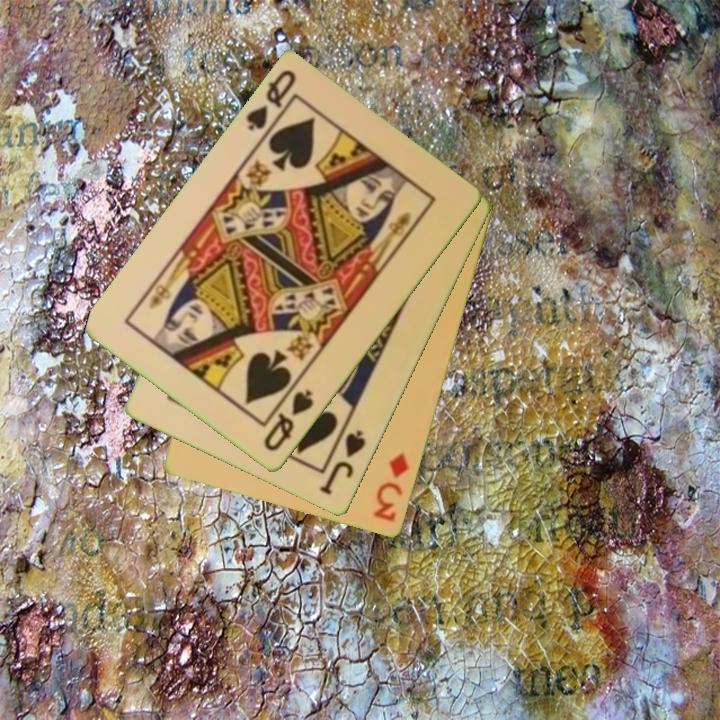3d: (370, 448, 412, 525)
Js: (316, 426, 369, 499)
Qs: (260, 386, 317, 455), (242, 66, 299, 135)
